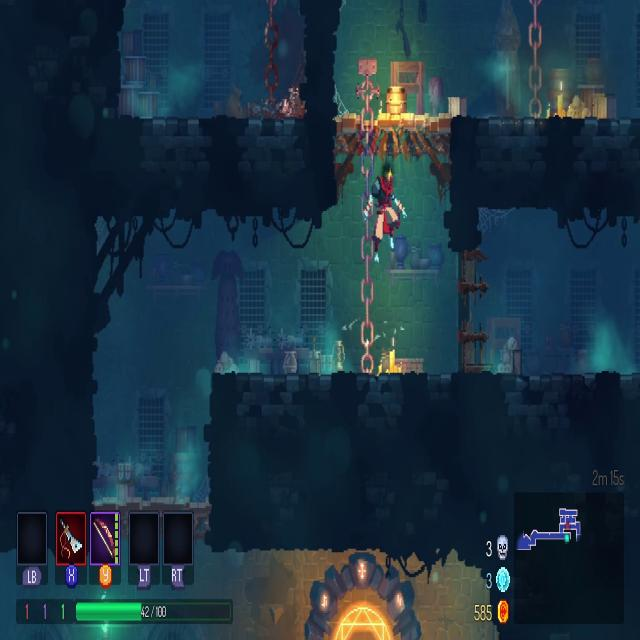agents: (362, 166, 404, 260)
